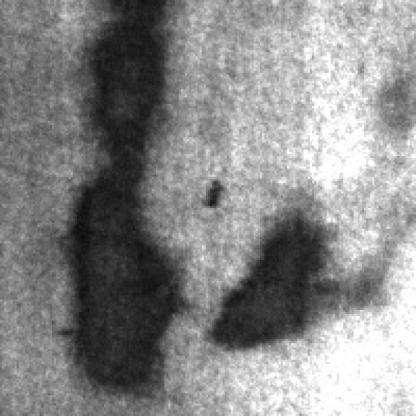patches: (67, 148, 183, 391), (212, 210, 364, 348), (87, 0, 180, 164)
